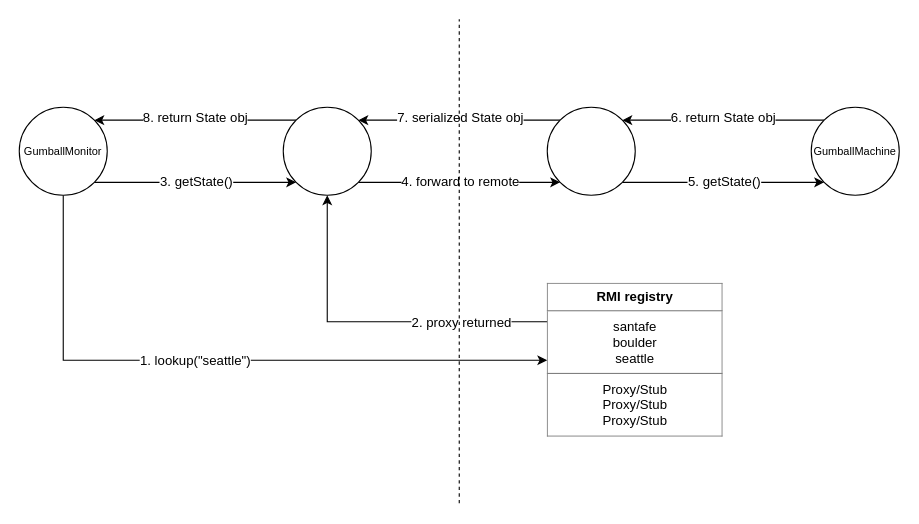
Image size: 919x524. Some labels were removed from this diagram. The centre of each missing label's shape, as x and y in pixels:
Proxy/Stub: (326,150)
Skeleton: (590,150)
